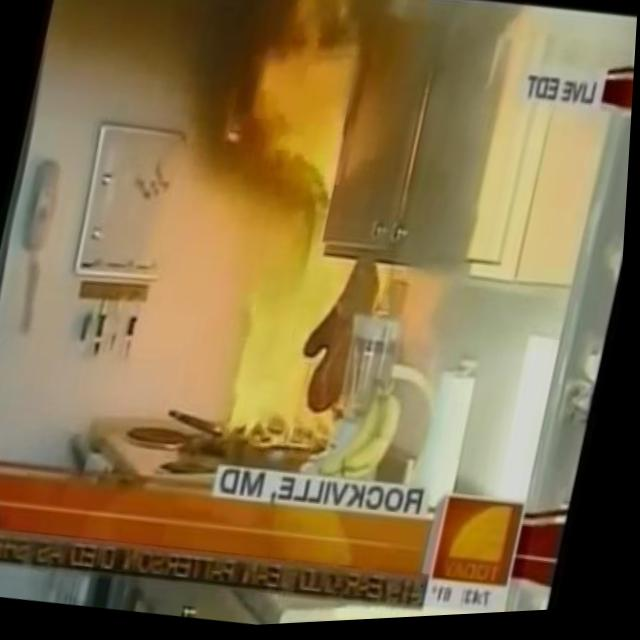fire: (220, 248, 413, 461), (220, 0, 375, 214)
